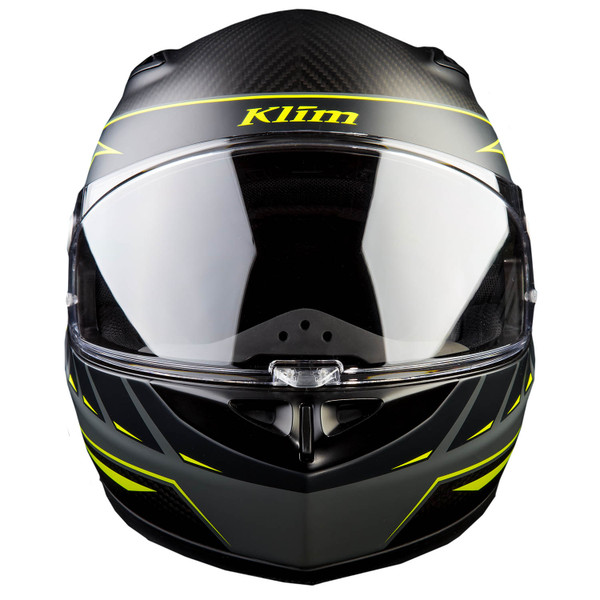with_helmet: (60, 4, 546, 590)
